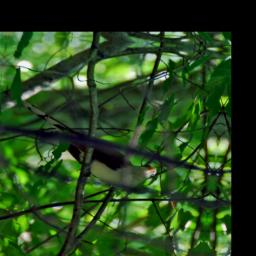Cuckoo: (7, 94, 167, 193)
